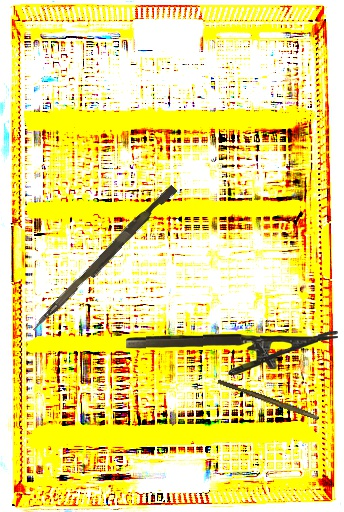Needle Holder: (125, 331, 339, 377)
Pusher: (30, 181, 178, 337)
Scalpel Handle: (216, 378, 321, 421)
